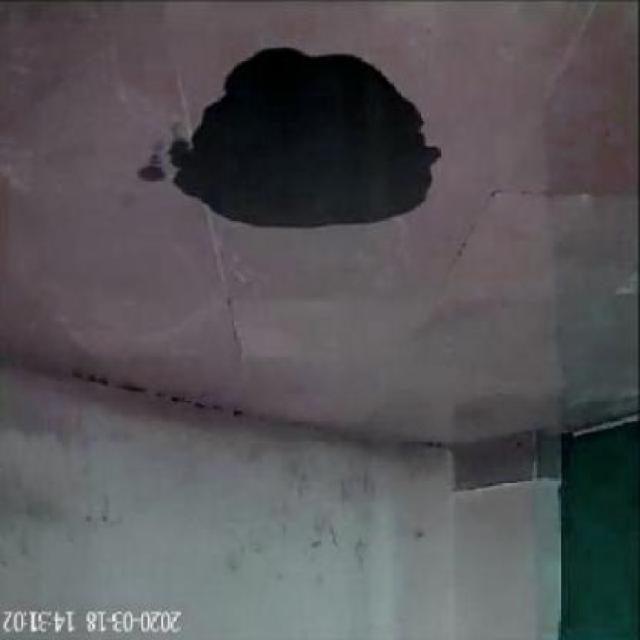spillage: (139, 45, 442, 227)
